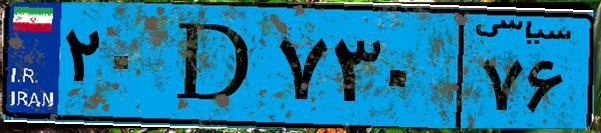0: (385, 28, 445, 110), (110, 28, 158, 98)
2: (57, 26, 110, 100)
3: (330, 28, 385, 110)
6: (525, 38, 570, 115)
7: (270, 28, 330, 110), (475, 38, 525, 113)
D: (158, 12, 270, 120)
